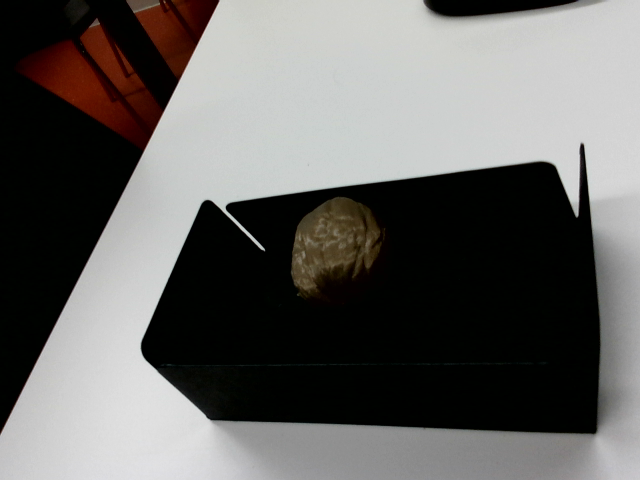walnut: (282, 188, 391, 314)
